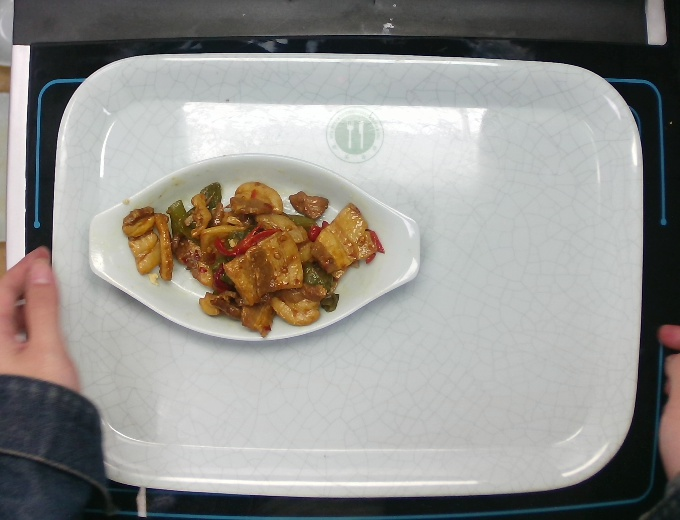JYsf-Yu_Pan: (83, 152, 433, 342)
